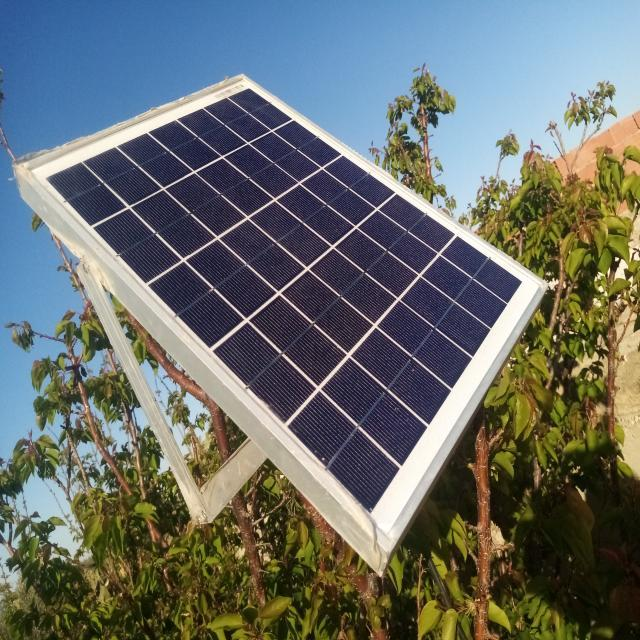no faulty: (20, 74, 545, 539)
